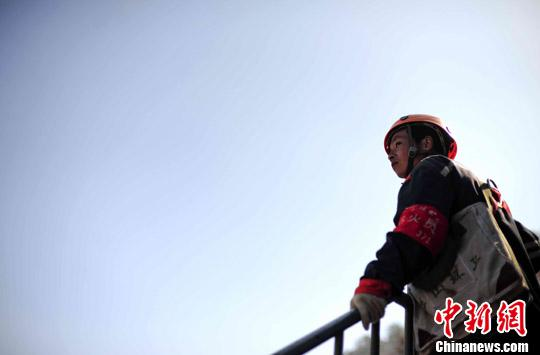helmet: (377, 108, 457, 178)
